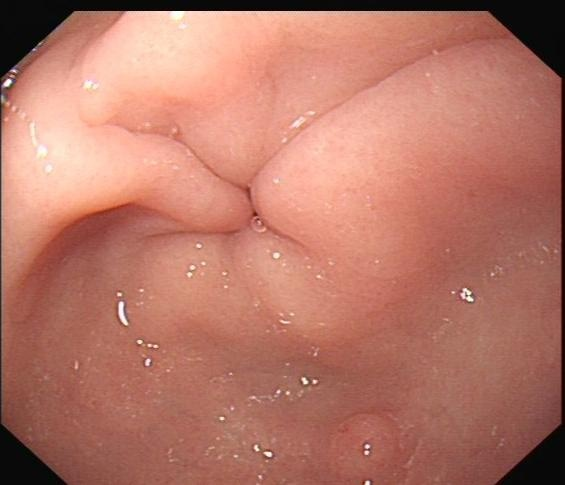Polyp: (325, 403, 423, 480)
